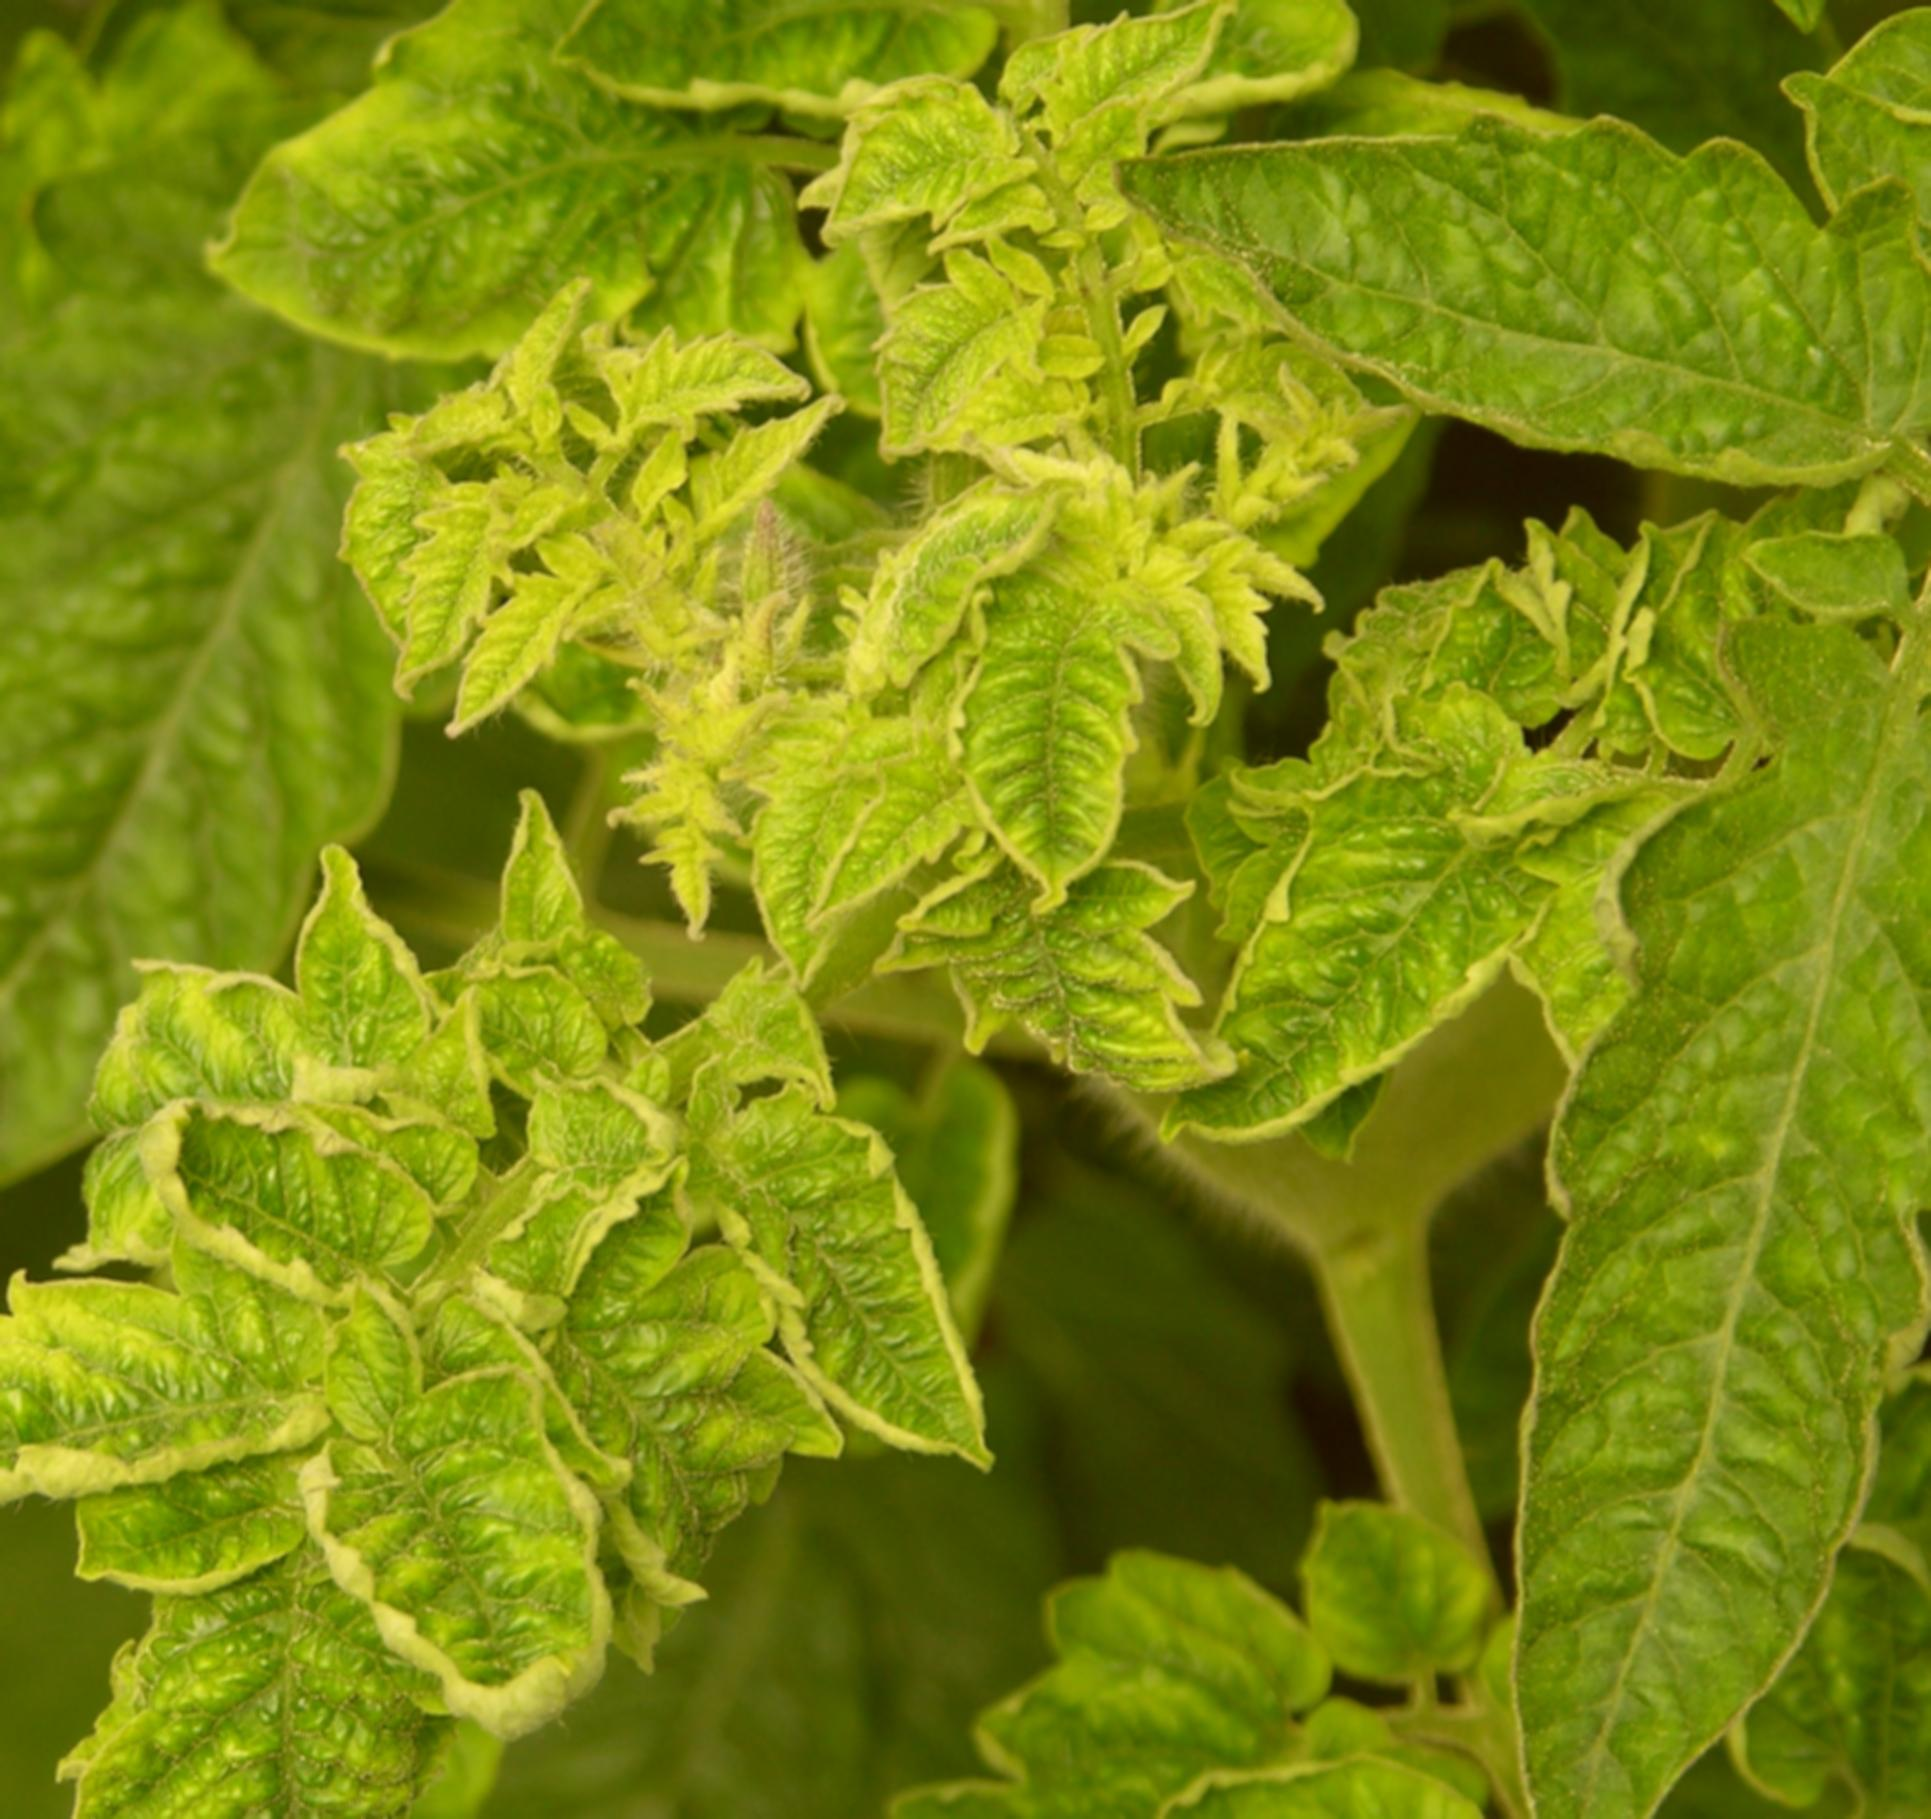Tomato leaf yellow virus: (1405, 569, 1931, 1819), (995, 51, 1931, 486), (1128, 698, 1586, 1183), (186, 68, 897, 380), (282, 1339, 665, 1792), (673, 1033, 1015, 1510), (0, 1504, 402, 1819), (77, 1072, 519, 1315), (0, 1233, 345, 1530), (923, 561, 1183, 896), (680, 663, 959, 923), (419, 564, 625, 730), (373, 484, 516, 650)
